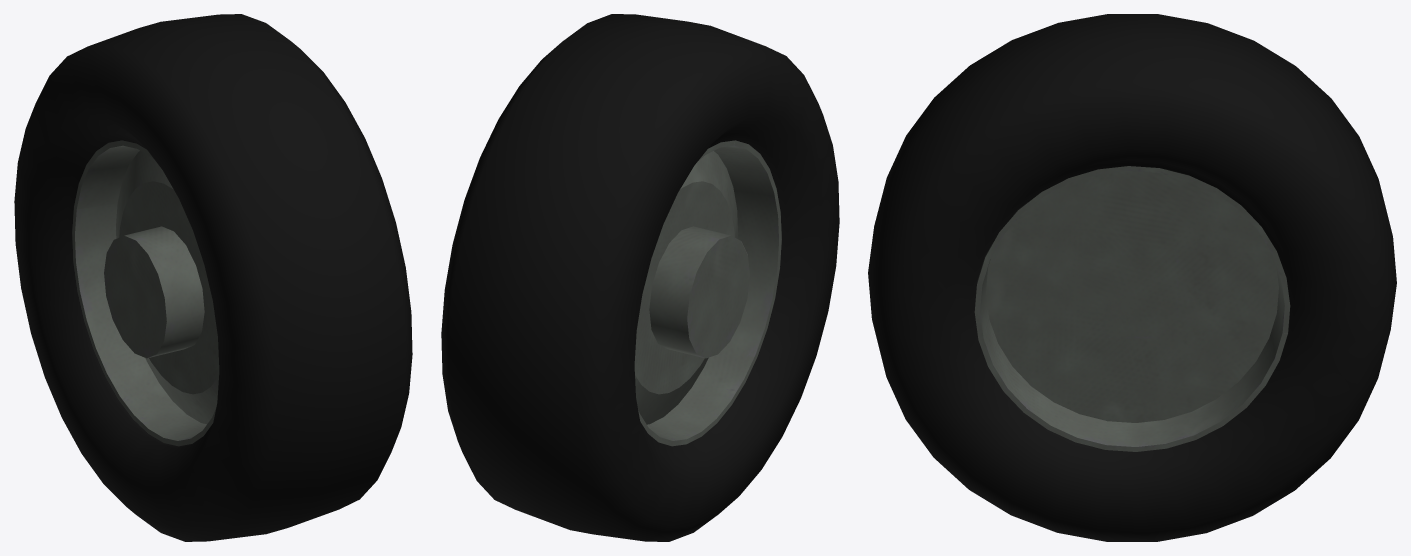
Rendered from WheelLeft.dae.
3 views of the same model, side by side, from view 1: azimuth 30°, elevation 25°; view 2: azimuth 150°, elevation 25°; view 3: azimuth 270°, elevation 25° (orthographic).
Visible parts, largest first — view 1: WheelLeft; view 2: WheelLeft; view 3: WheelLeft.
Boxes of the visible parts, x1=… form: WheelLeft: x1=14, y1=14, x2=412, y2=541; WheelLeft: x1=441, y1=14, x2=839, y2=541; WheelLeft: x1=868, y1=14, x2=1396, y2=541.
Bounding box in the file's own units: 0.254 × 0.6536 × 0.6536.
Materials: 1 (1 with a texture image).
